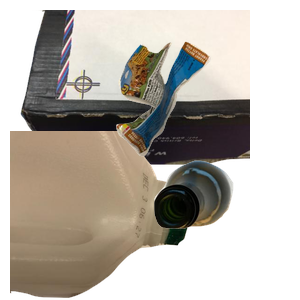cardboard: (18, 10, 258, 171)
glass: (151, 158, 300, 300)
plastic: (10, 131, 196, 300)
trash: (114, 39, 300, 188)
